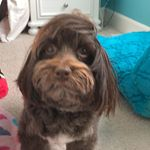puppy: (14, 10, 116, 150)
